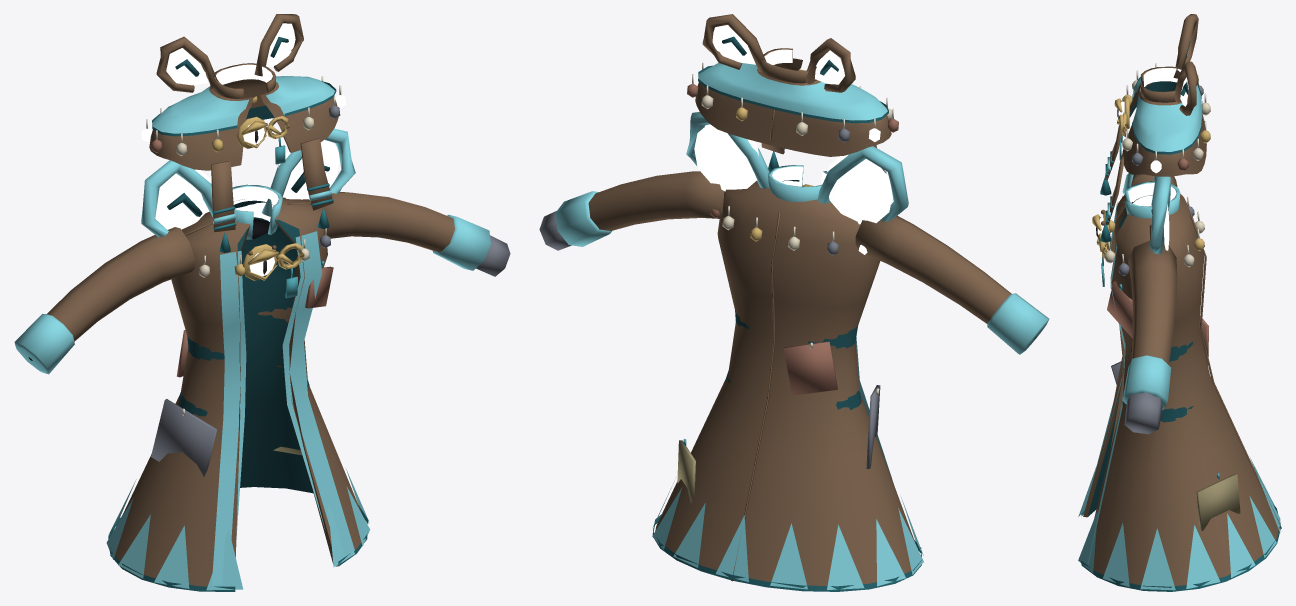
Rendered from coat-coat-of-the-cohort.glb.
The picture shows the model from 3 angles, left to right: view 1: azimuth 30°, elevation 25°; view 2: azimuth 150°, elevation 25°; view 3: azimuth 270°, elevation 25°; orthographic projection. The views are drawn at different scales.
Parts seen in each view (by area): view 1: coat-coat-of-the-cohort, coat-coat-of-the-cohort_worn; view 2: coat-coat-of-the-cohort, coat-coat-of-the-cohort_worn; view 3: coat-coat-of-the-cohort, coat-coat-of-the-cohort_worn.
Part boxes in pixels (<box>): coat-coat-of-the-cohort: <box>14,128,510,591</box>; coat-coat-of-the-cohort_worn: <box>141,14,345,231</box>; coat-coat-of-the-cohort: <box>539,112,1049,591</box>; coat-coat-of-the-cohort_worn: <box>687,14,898,173</box>; coat-coat-of-the-cohort: <box>1078,173,1281,591</box>; coat-coat-of-the-cohort_worn: <box>1105,14,1210,224</box>.
Bounding box in the file's own units: 2.25 × 2.28 × 0.8384.
